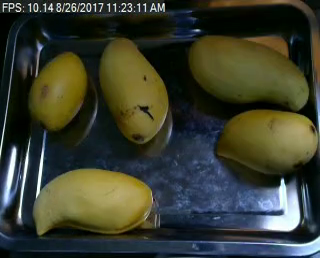Mango: (190, 35, 310, 111), (32, 168, 153, 243), (98, 35, 169, 142), (216, 110, 318, 174), (29, 50, 86, 129)
